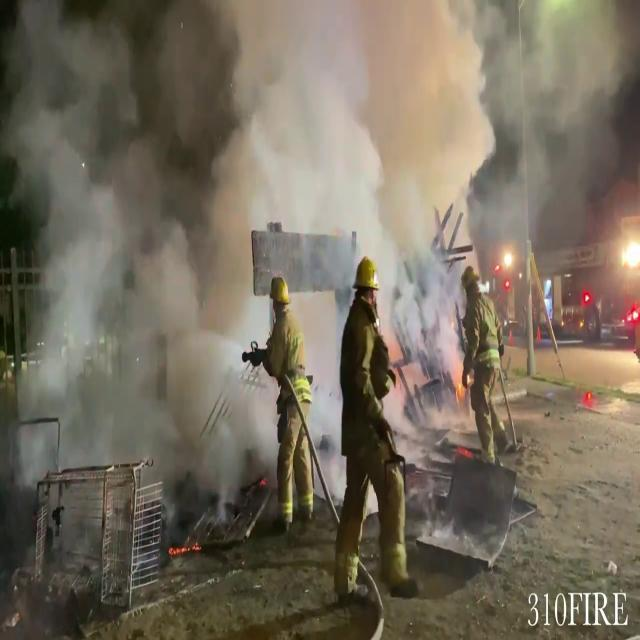Smoke: (1, 0, 494, 532), (460, 0, 640, 258)
